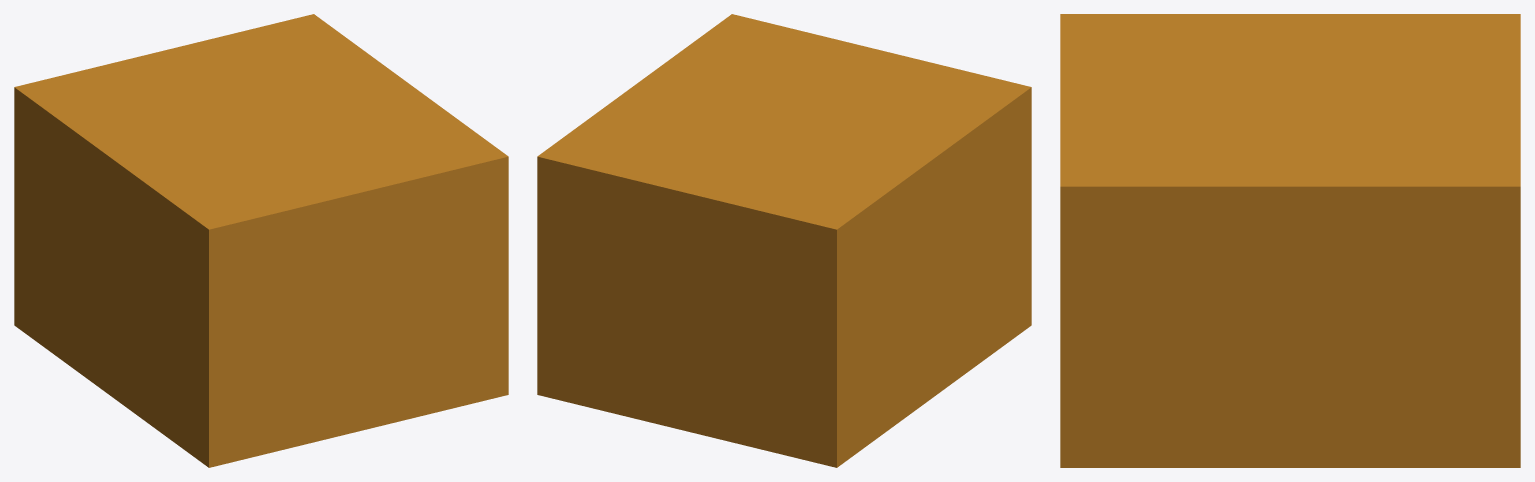
The picture shows the model from 3 angles, left to right: view 1: azimuth 30°, elevation 25°; view 2: azimuth 150°, elevation 25°; view 3: azimuth 270°, elevation 25°; orthographic projection. The views are drawn at different scales.
Visible parts, largest first — view 1: box_1_3, box_1_2, box_1_9, box_1_7, box_1_6, box_1_8; view 2: box_1_1, box_1_2, box_1_9, box_1_7, box_1_8, box_1_6; view 3: box_1_4, box_1_9, box_1_7, box_1_6, box_1_8.
Boxes of the visible parts, x1,y1,x2,y2 form: box_1_3: (209, 156, 508, 467); box_1_2: (14, 87, 208, 467); box_1_9: (14, 14, 410, 158); box_1_7: (113, 89, 507, 228); box_1_6: (112, 122, 358, 229); box_1_8: (248, 14, 507, 192); box_1_1: (537, 156, 836, 467); box_1_2: (837, 87, 1031, 467); box_1_9: (537, 85, 933, 229); box_1_7: (640, 14, 1029, 157); box_1_8: (567, 14, 874, 191); box_1_6: (784, 50, 1031, 228); box_1_4: (1060, 186, 1520, 467); box_1_9: (1290, 14, 1520, 186); box_1_7: (1060, 14, 1290, 186); box_1_6: (1060, 14, 1290, 100); box_1_8: (1060, 101, 1290, 185).
Bounding box in the file's own units: 70.45 × 53.52 × 79.32.
